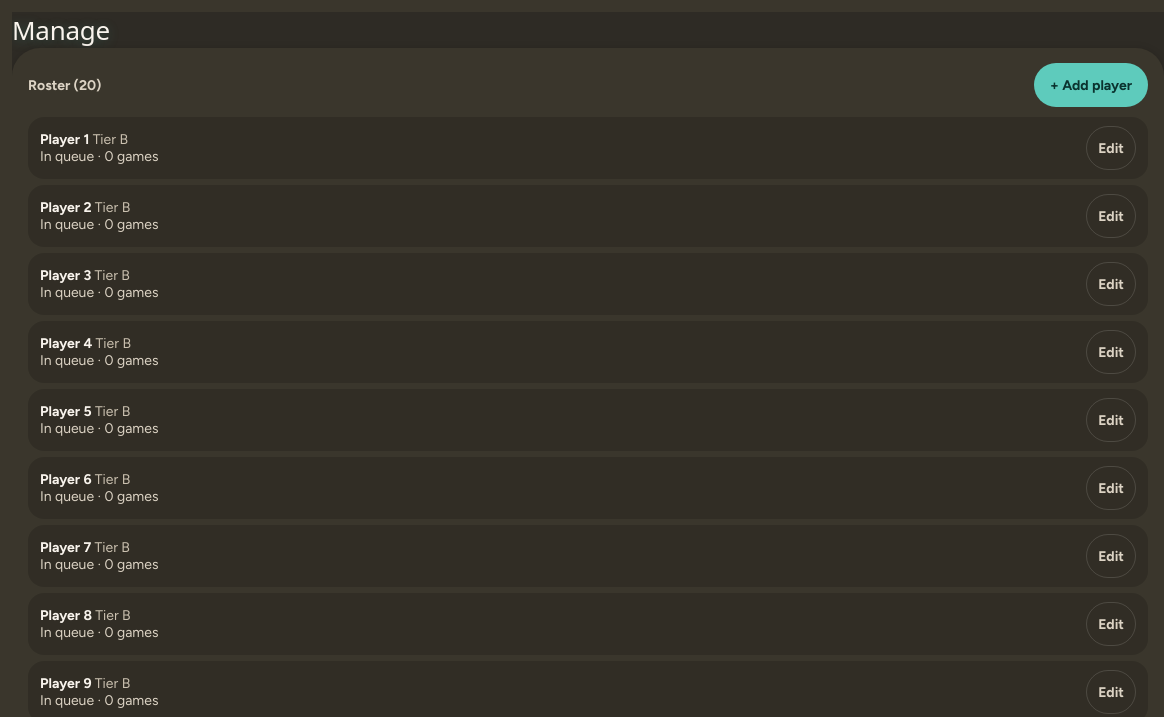
it: ManageTab + Add player › opens the add form right under the header with one tap, and focuses the name field
Step 1. Click the button "+ Add player" → (1091, 85), box top-left (1034, 63), bottom-right (1148, 107)
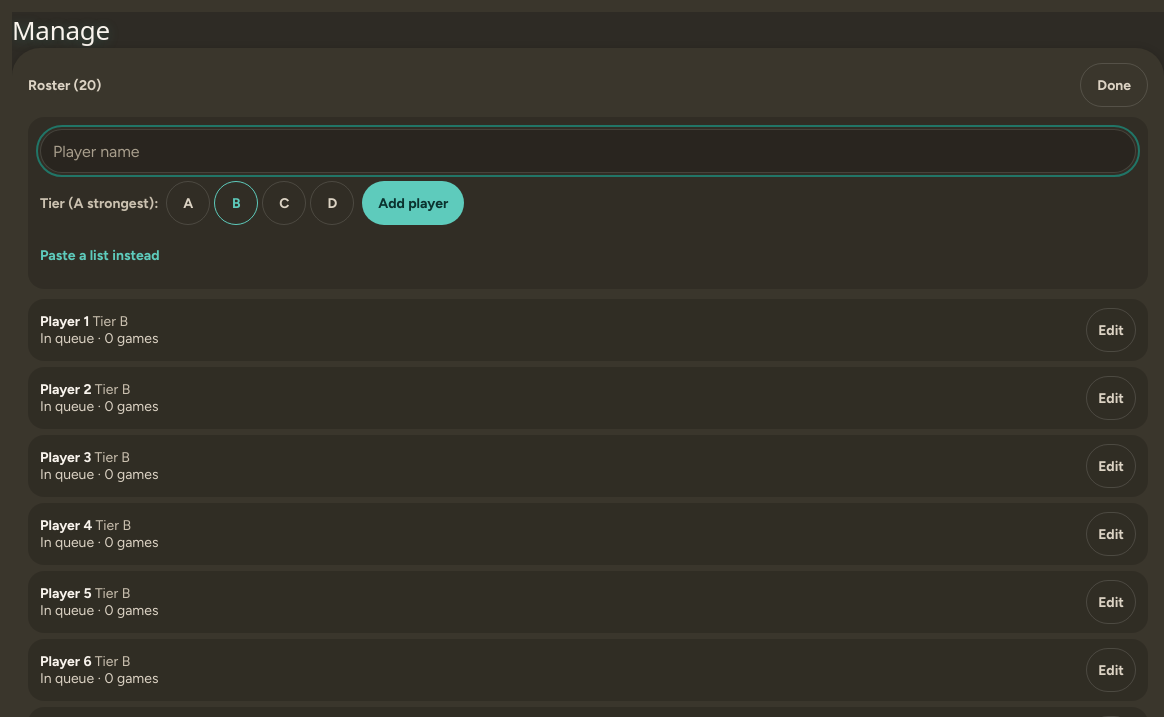
Expected: the element showing "Player 1 Tier B In queue · 0 games Edit" is shown, top-left (28, 299), bottom-right (1148, 361)
Now the element with id "roster-add" is shown, box top-left (28, 117), bottom-right (1148, 289)
